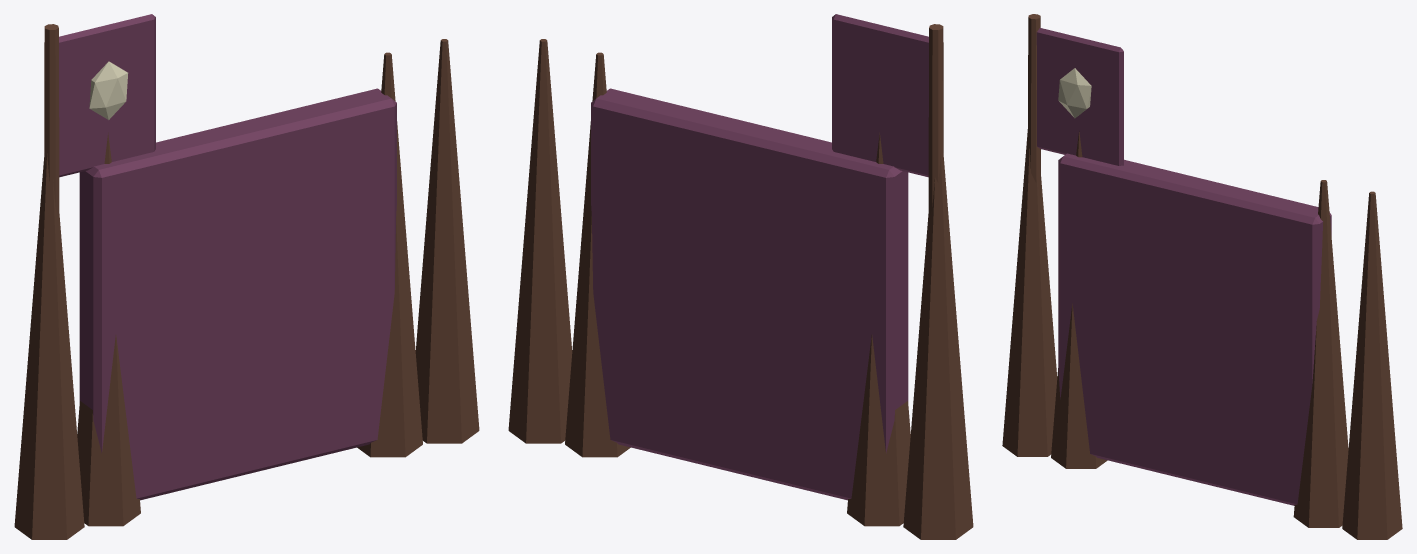
File: goblin_gate.glb
3 renders of one model, left to right at view 1: azimuth 30°, elevation 25°; view 2: azimuth 150°, elevation 25°; view 3: azimuth 330°, elevation 25°, orthographic. The views are drawn at different scales.
Parts seen in each view (by area): view 1: GateDoor, Geometry; view 2: GateDoor, Geometry; view 3: GateDoor, Geometry.
Boxes of the visible parts, x1,y1,x2,y2 form: GateDoor: (79, 88, 396, 500); Geometry: (14, 14, 479, 539); GateDoor: (591, 88, 908, 500); Geometry: (508, 14, 973, 539); GateDoor: (1058, 153, 1331, 505); Geometry: (1002, 14, 1402, 539).
Bounding box in the file's own units: 2.06 × 2.2 × 0.28.
